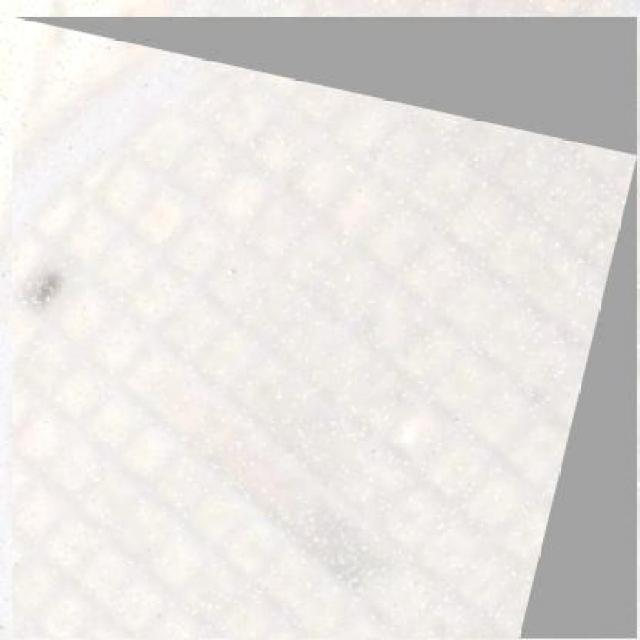Manhole: (12, 16, 638, 638)
